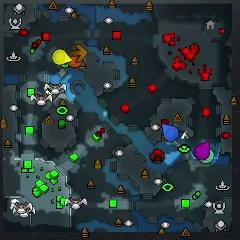p1: (161, 122, 178, 141)
p2: (201, 150, 214, 163)
p3: (194, 141, 211, 159)
p4: (52, 49, 72, 64)
p5: (68, 55, 83, 68)
x5: (69, 44, 88, 62)
